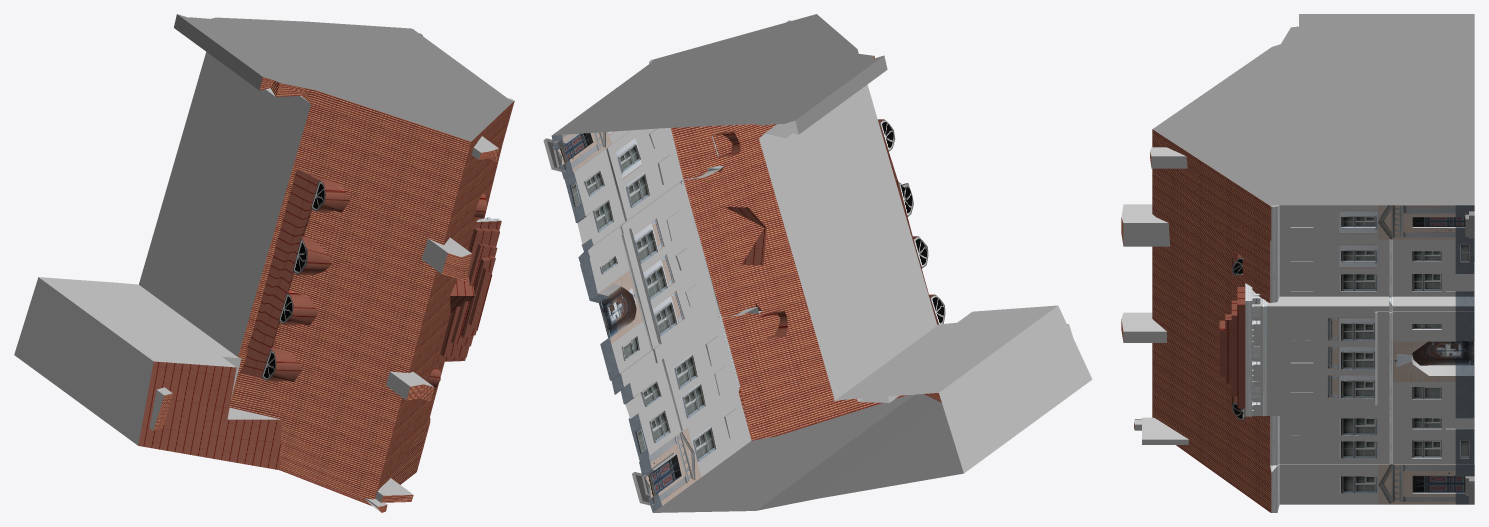
Rendered from Lai_43_1-origo.obj.
3 renders of one model, left to right at view 1: azimuth 30°, elevation 25°; view 2: azimuth 150°, elevation 25°; view 3: azimuth 270°, elevation 25°, orthographic. The views are drawn at different scales.
Parts seen in each view (by area): view 1: Lai_43_1; view 2: Lai_43_1; view 3: Lai_43_1.
Part boxes in pixels (x1,y1,x2,y2): Lai_43_1: [14, 14, 514, 512]; Lai_43_1: [543, 14, 1092, 512]; Lai_43_1: [1121, 14, 1474, 512].
Size of the model in its own units: 32.44 by 32 by 23.88.
